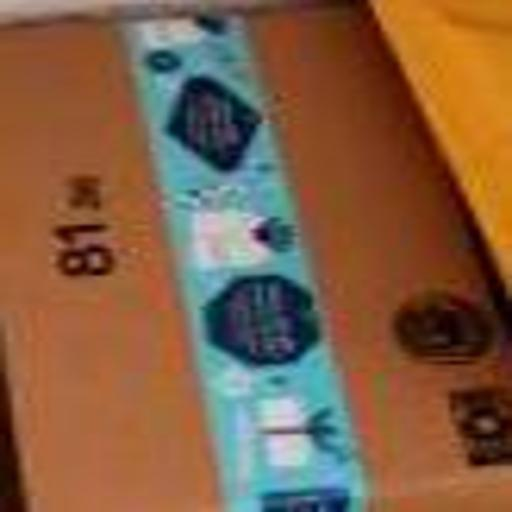Amazon: (12, 0, 442, 511)
